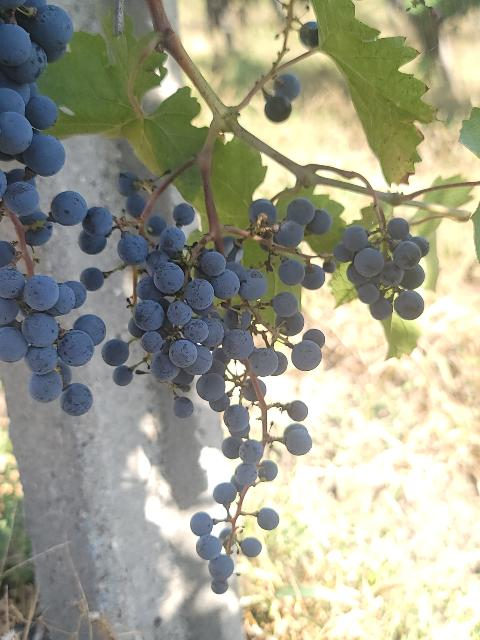grapes: (0, 198, 330, 594), (82, 208, 324, 509), (334, 218, 430, 320)
